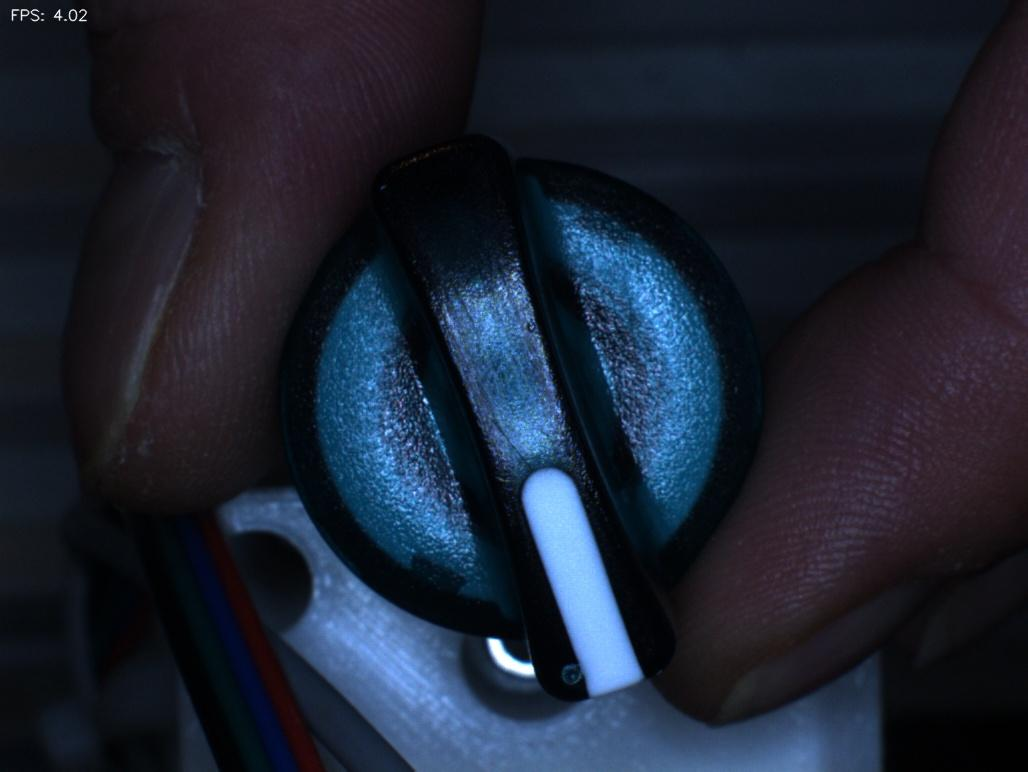Choc: (530, 642, 623, 725)
